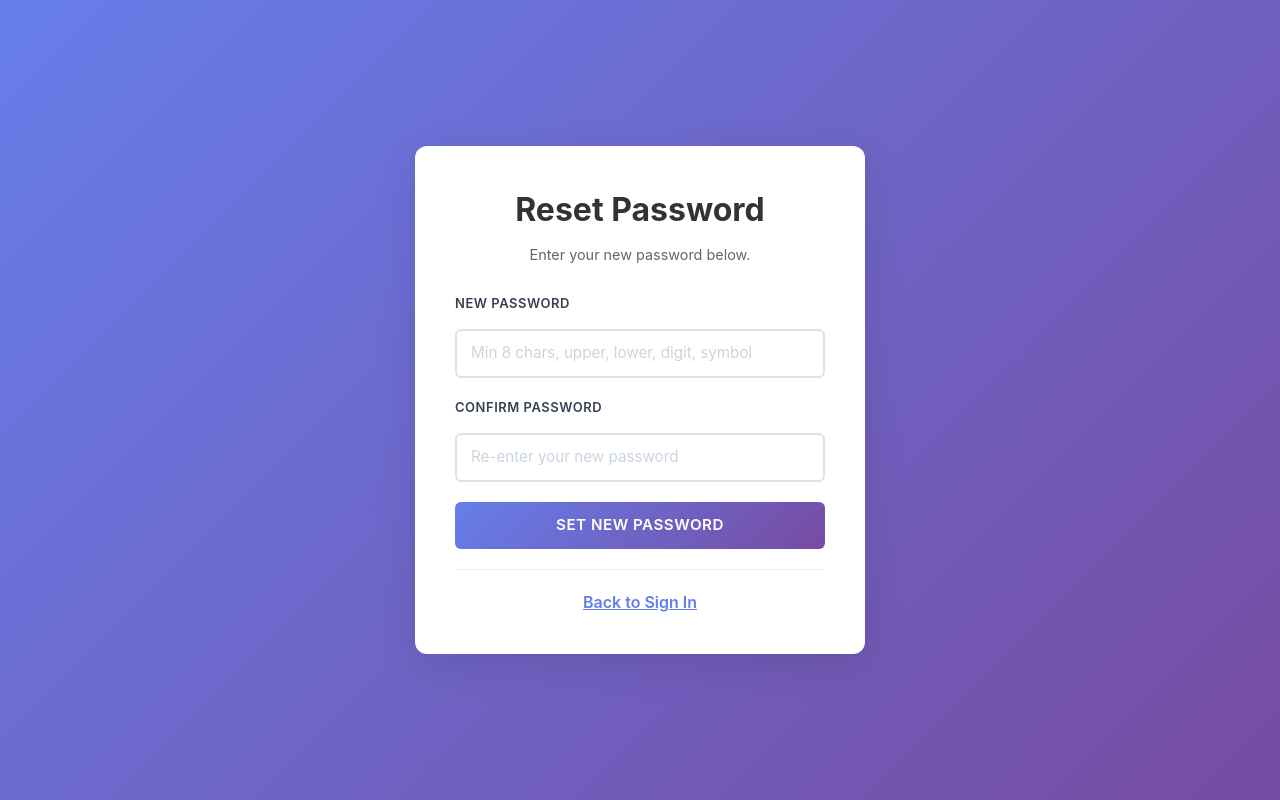
Test: PasswordResetForm (ResetPasswordPage) › Confirm Password › shows error when passwords do not match
Type "StrongPass123!" into the password field labelled "New Password" at [640, 354], box [455,329,825,378]
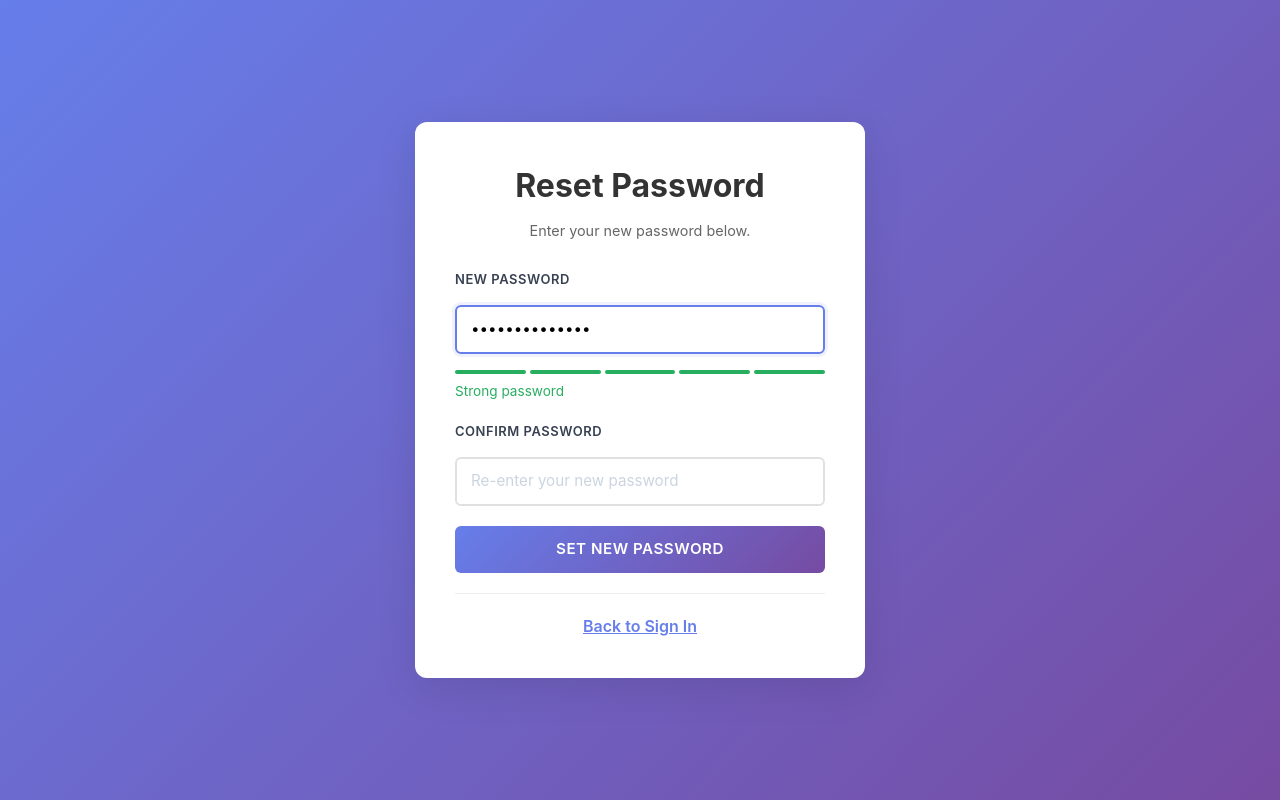
Type "DifferentPass123!" into the password field labelled "Confirm Password" at [640, 482], box [455,457,825,506]
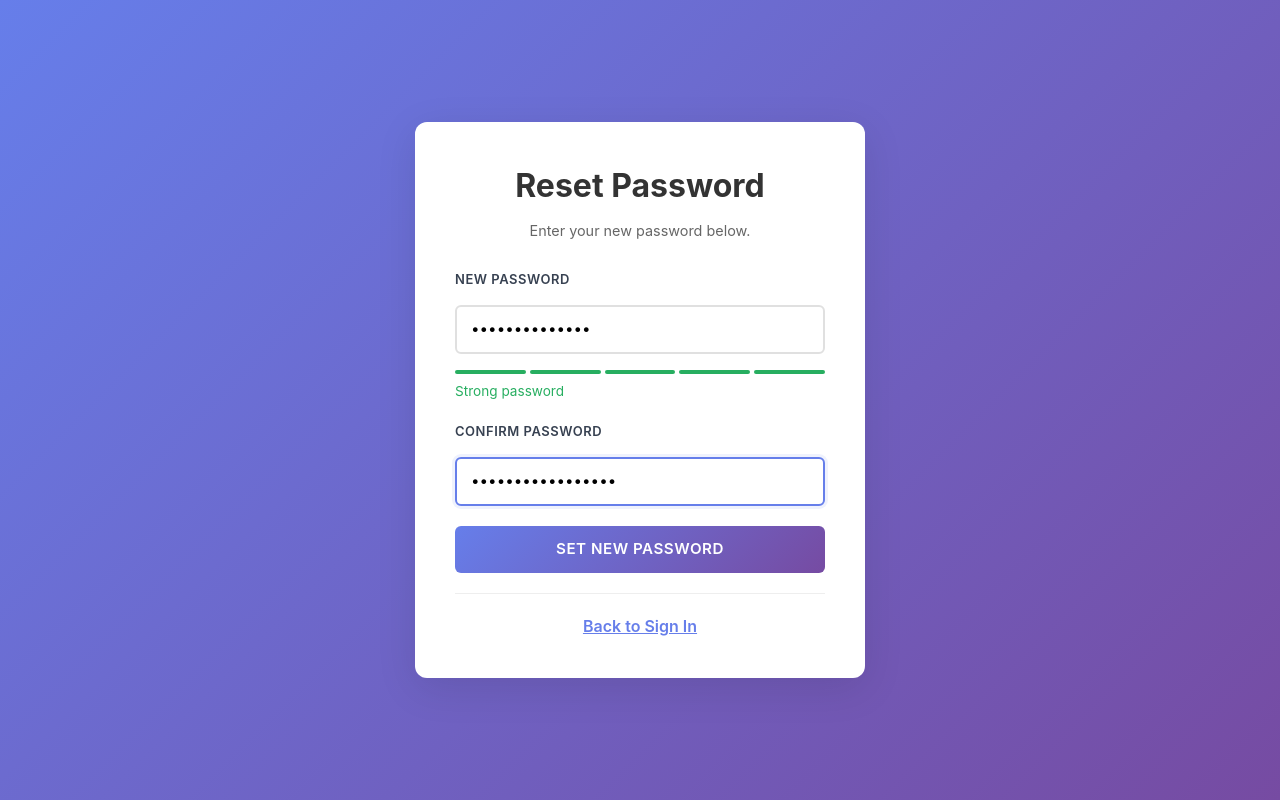
Click the button "Set New Password" at [640, 550], box [455,526,825,573]
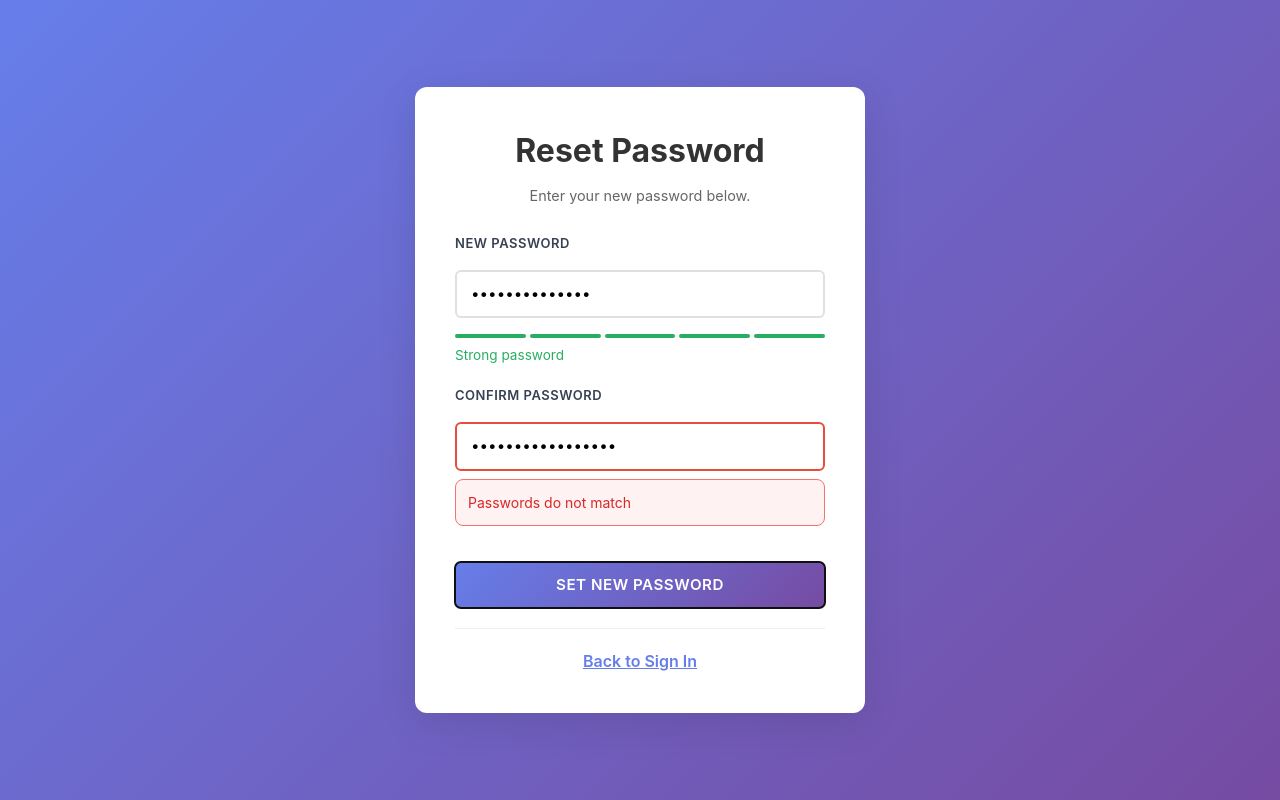
Expected: the text "Passwords do not match" is shown, [455,479,825,526]
